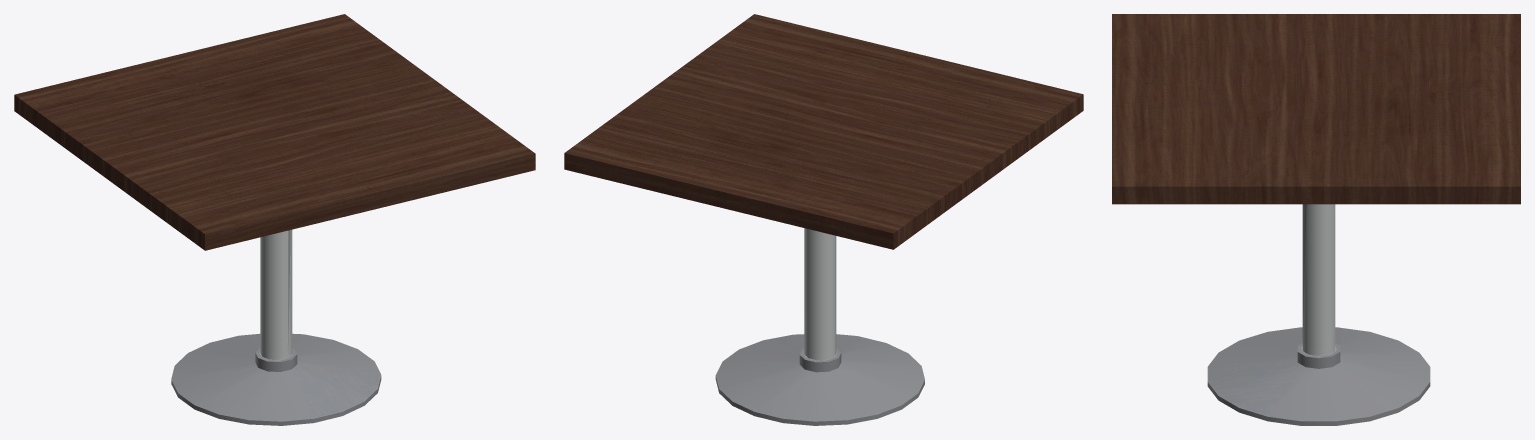
File: SM_Table_02.glb
3 views of the same model, side by side, from view 1: azimuth 30°, elevation 25°; view 2: azimuth 150°, elevation 25°; view 3: azimuth 270°, elevation 25° (orthographic). The views are drawn at different scales.
Parts seen in each view (by area): view 1: SM_Table_02; view 2: SM_Table_02; view 3: SM_Table_02.
Boxes of the visible parts, <box> form: SM_Table_02: <box>14,14,535,425</box>; SM_Table_02: <box>564,14,1083,425</box>; SM_Table_02: <box>1112,14,1520,425</box>.
Bounding box in the file's own units: 1.13 × 0.843 × 1.13.
1 material, 1 textured.
